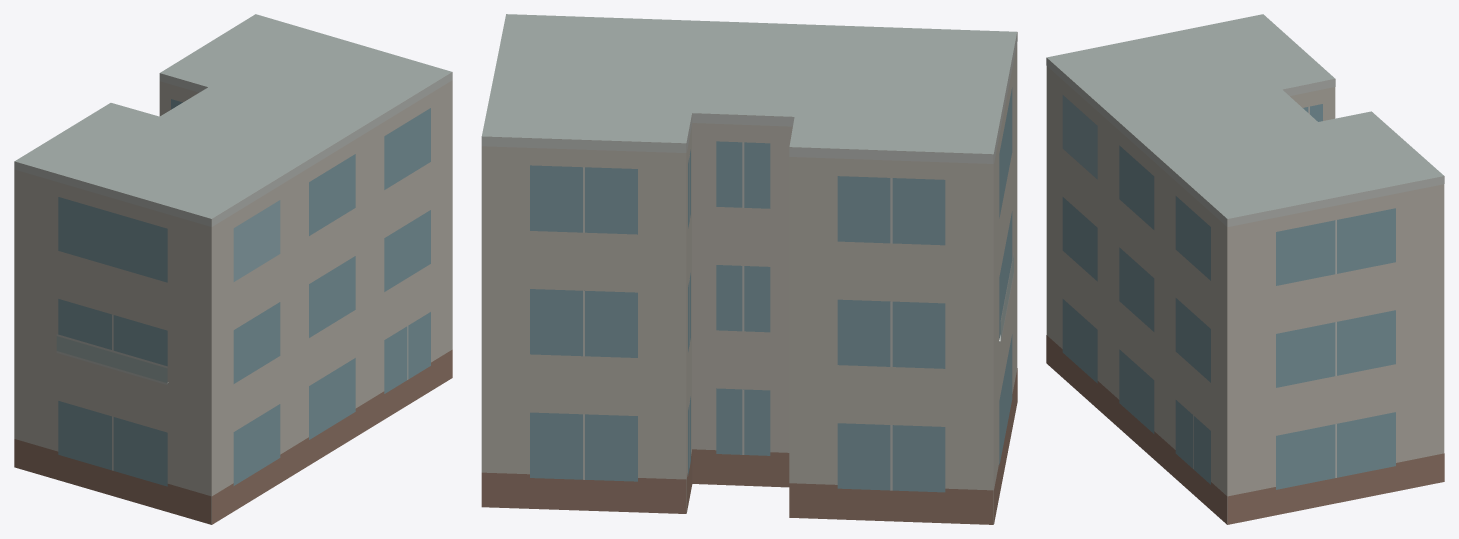
Rendered from survey-upis-32615037.glb.
The picture shows the model from 3 angles, left to right: view 1: azimuth 30°, elevation 25°; view 2: azimuth 150°, elevation 25°; view 3: azimuth 270°, elevation 25°; orthographic projection. The views are drawn at different scales.
Parts seen in each view (by area): view 1: survey-upis-32615037.tmp; view 2: survey-upis-32615037.tmp; view 3: survey-upis-32615037.tmp.
Part boxes in pixels (x1,y1,x2,y2): survey-upis-32615037.tmp: (14,14,452,524); survey-upis-32615037.tmp: (481,14,1017,524); survey-upis-32615037.tmp: (1046,14,1444,524).
Size of the model in its own units: 13.17 by 9.15 by 10.8.
